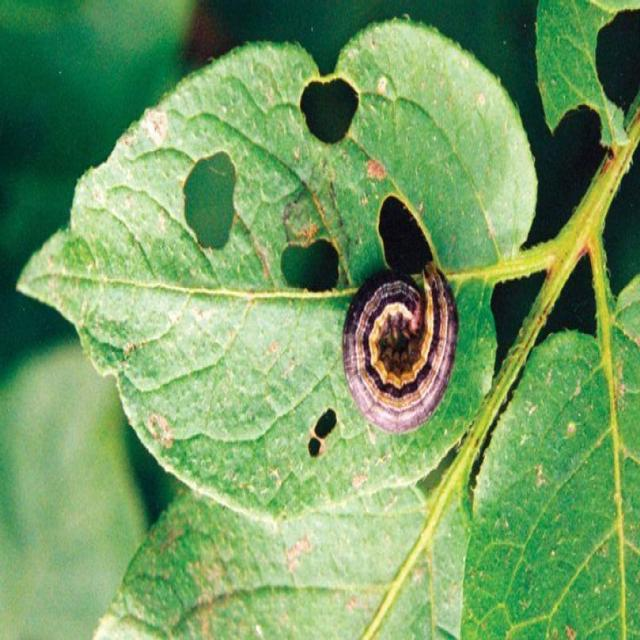army worm: (341, 267, 460, 437)
